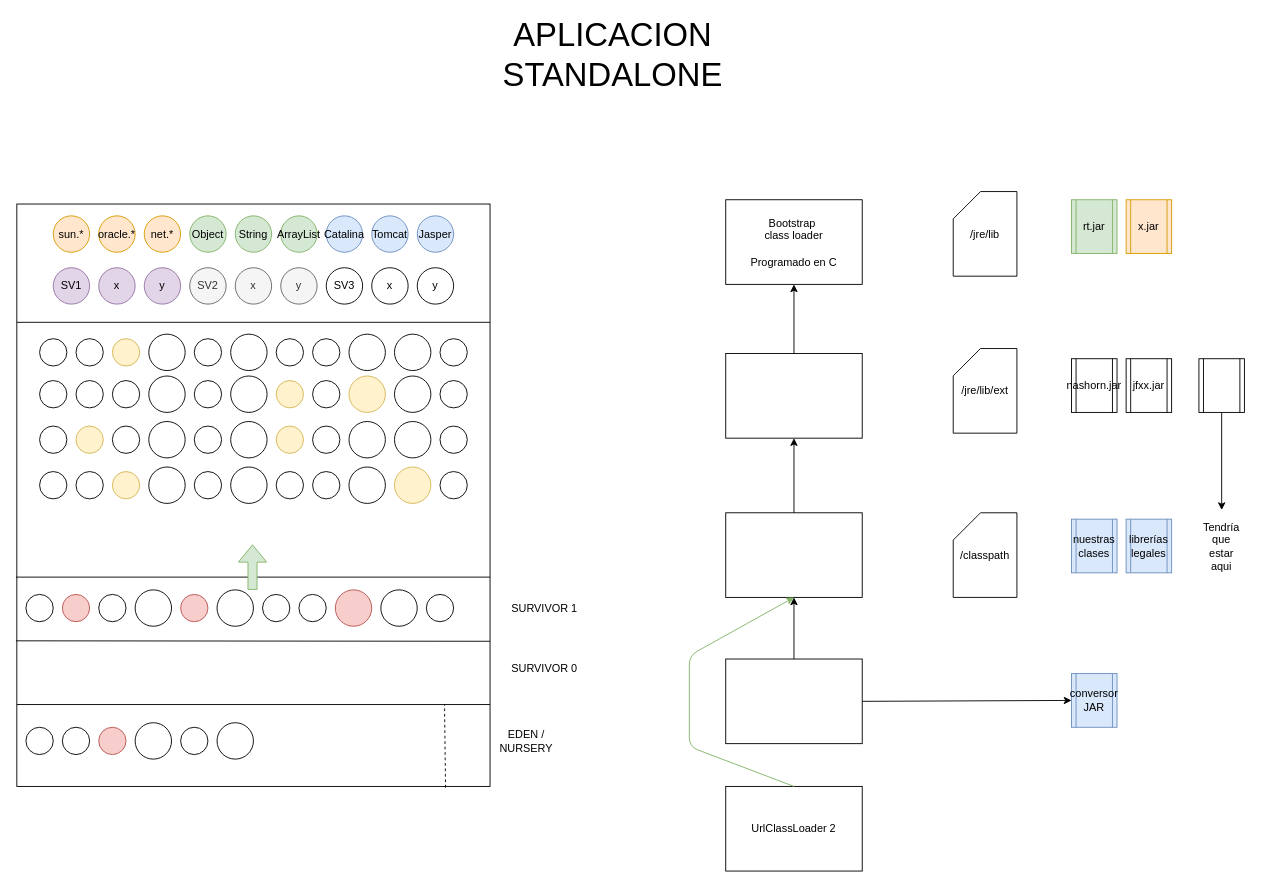
This 1261x887 diagram has some shape labels left out. The centre of each missing label's shape, as x and y in pixels:
Extensions class loader: the point at 793,395
http commons: the point at 1221,385
System/App class loader: the point at 793,554
UrlClassLoader: the point at 793,701
